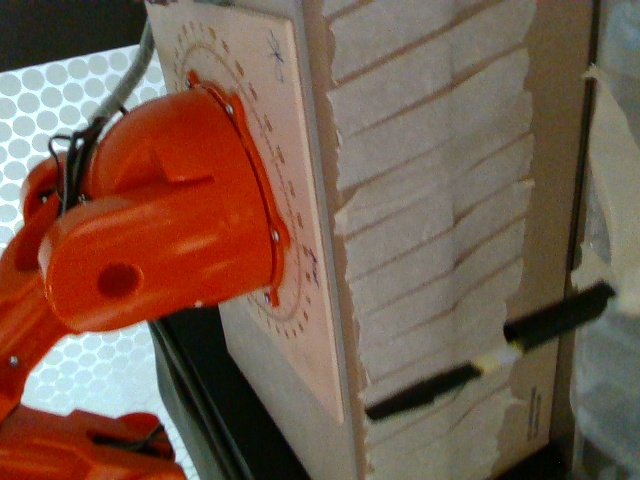test_strip: (363, 340, 523, 423)
